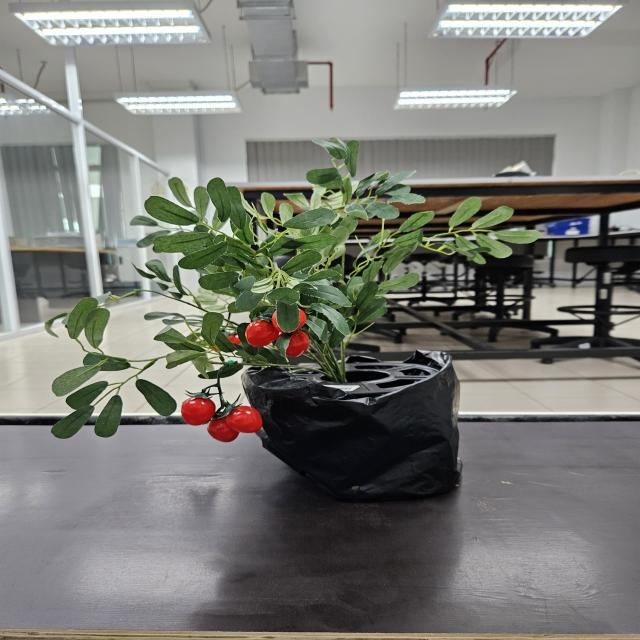Tomato: (182, 387, 269, 445), (240, 304, 317, 361)
plant: (44, 139, 514, 444)
